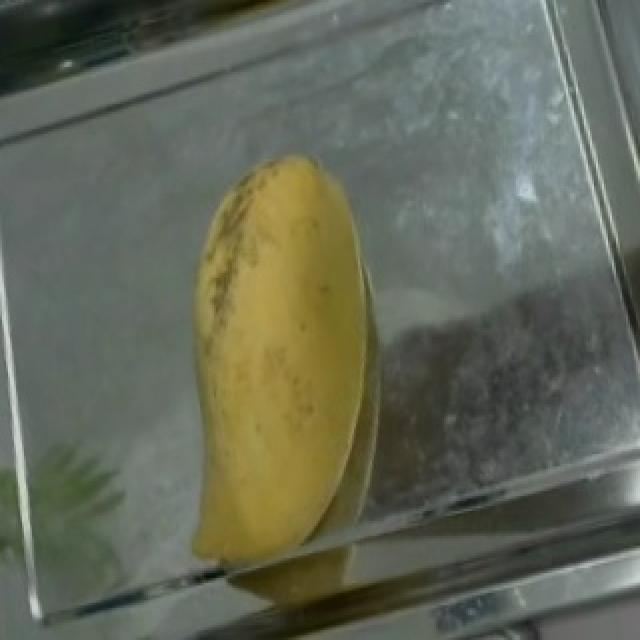fruit: (158, 114, 460, 553)
